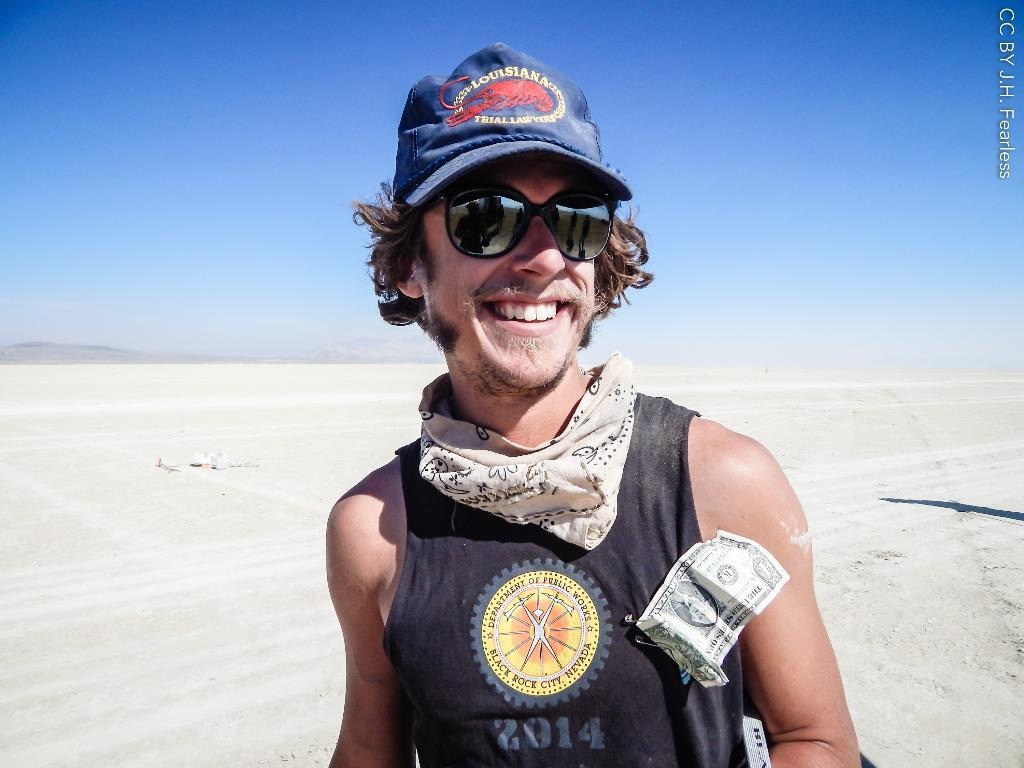Hat: (391, 38, 632, 204)
